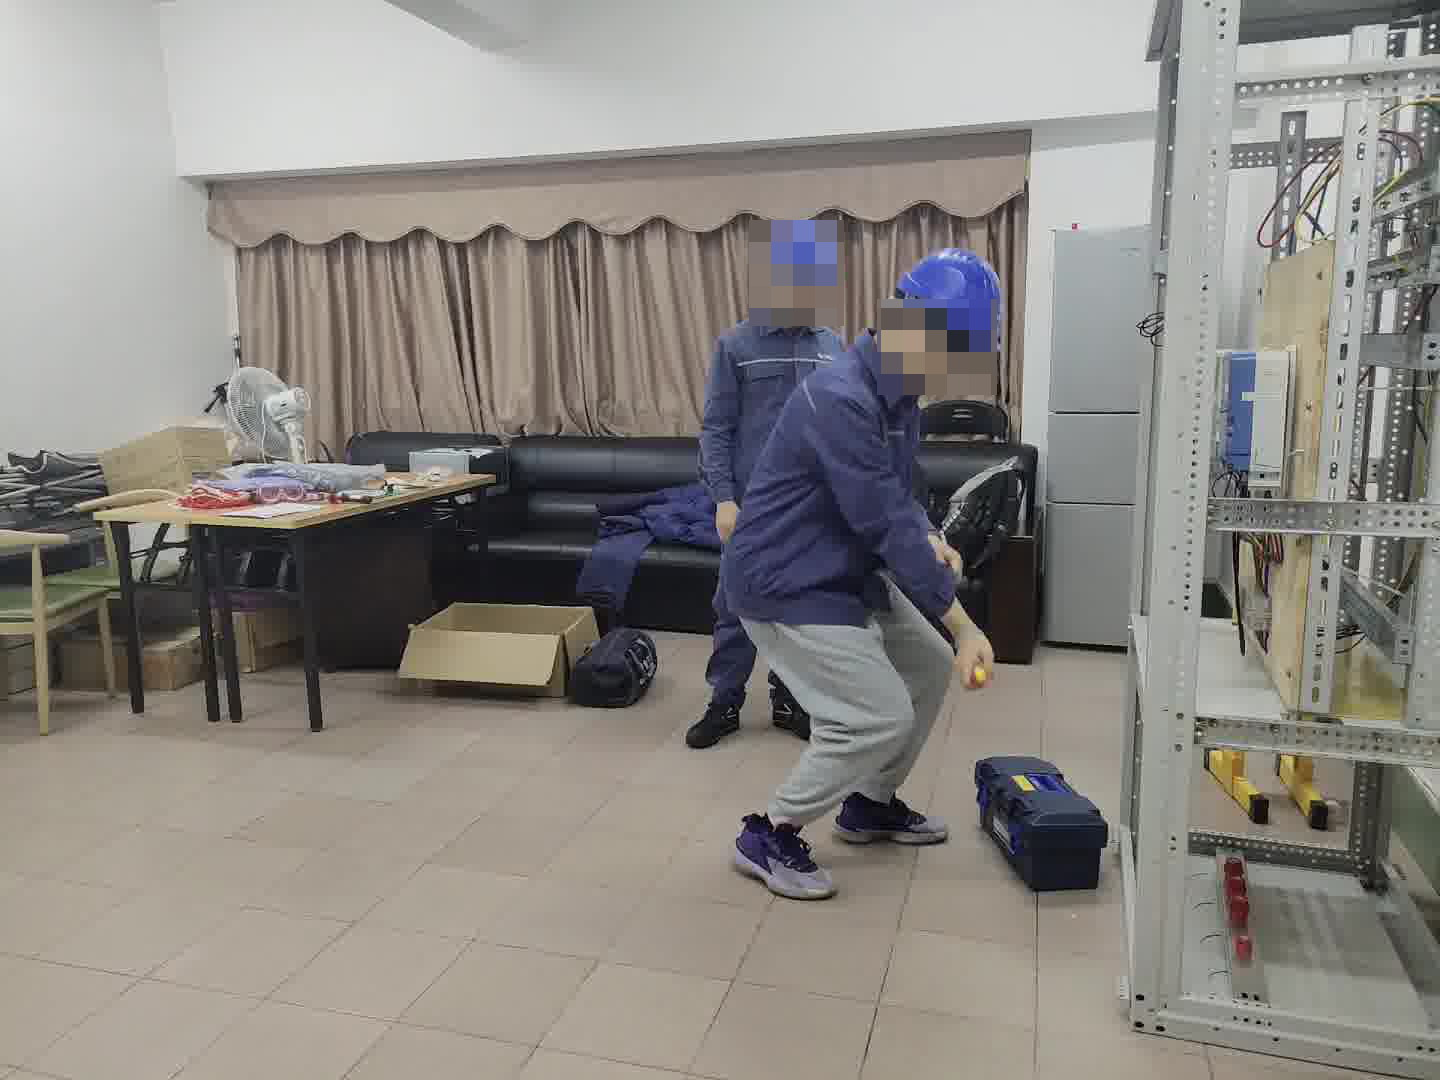downcloth: (742, 616, 952, 809)
halt: (888, 248, 1005, 387), (762, 219, 845, 322)
hand: (954, 621, 1003, 698), (929, 531, 964, 582), (714, 497, 743, 546)
noear: (895, 296, 929, 355)
person: (687, 219, 1010, 896)
upsuit: (719, 326, 961, 609)
